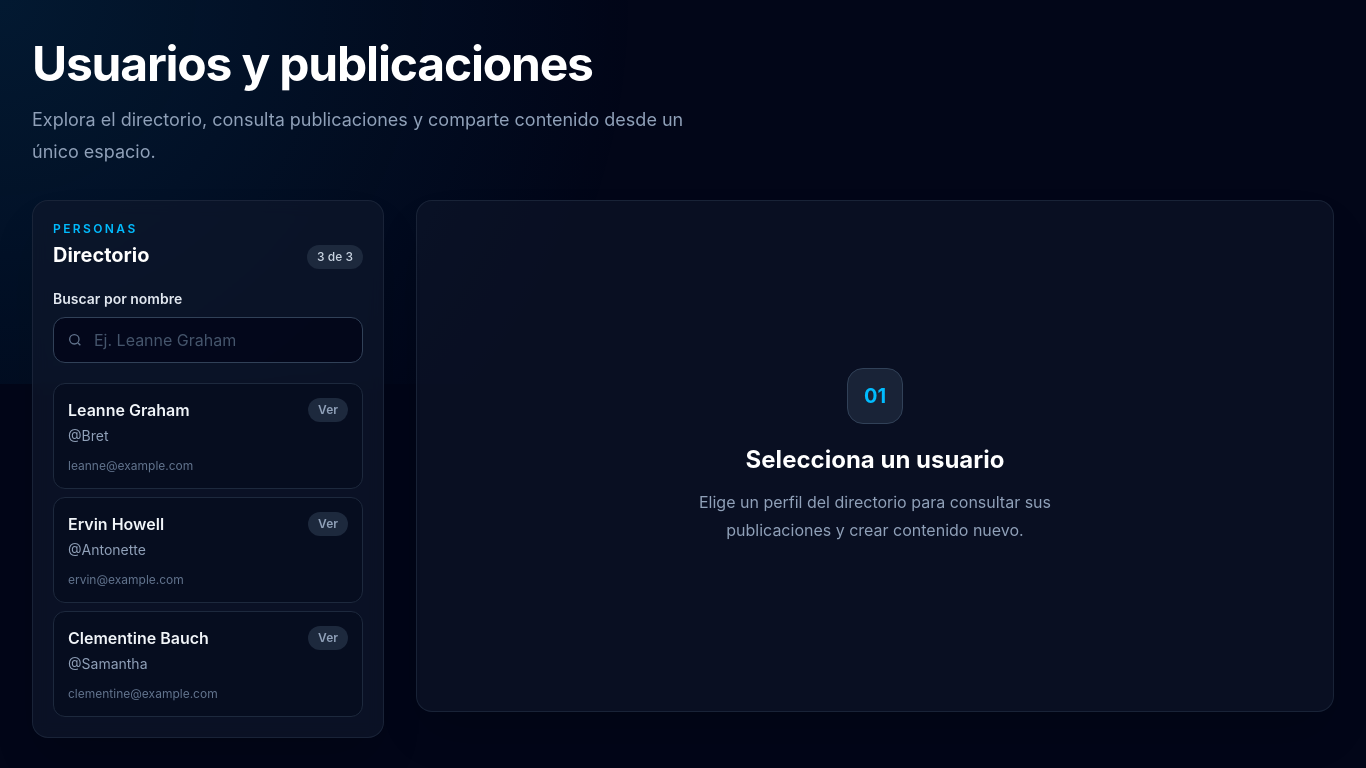
interacciones de usuarios y publicaciones › filtra sin distinguir mayúsculas y minúsculas
Check: the text "Leanne Graham" is shown, box [68,398,190,422]
Type "lEaNnE gRaHaM" into the search field labelled "Buscar por nombre".
click(208, 340); type("lEaNnE gRaHaM")  # box [53,317,363,363]
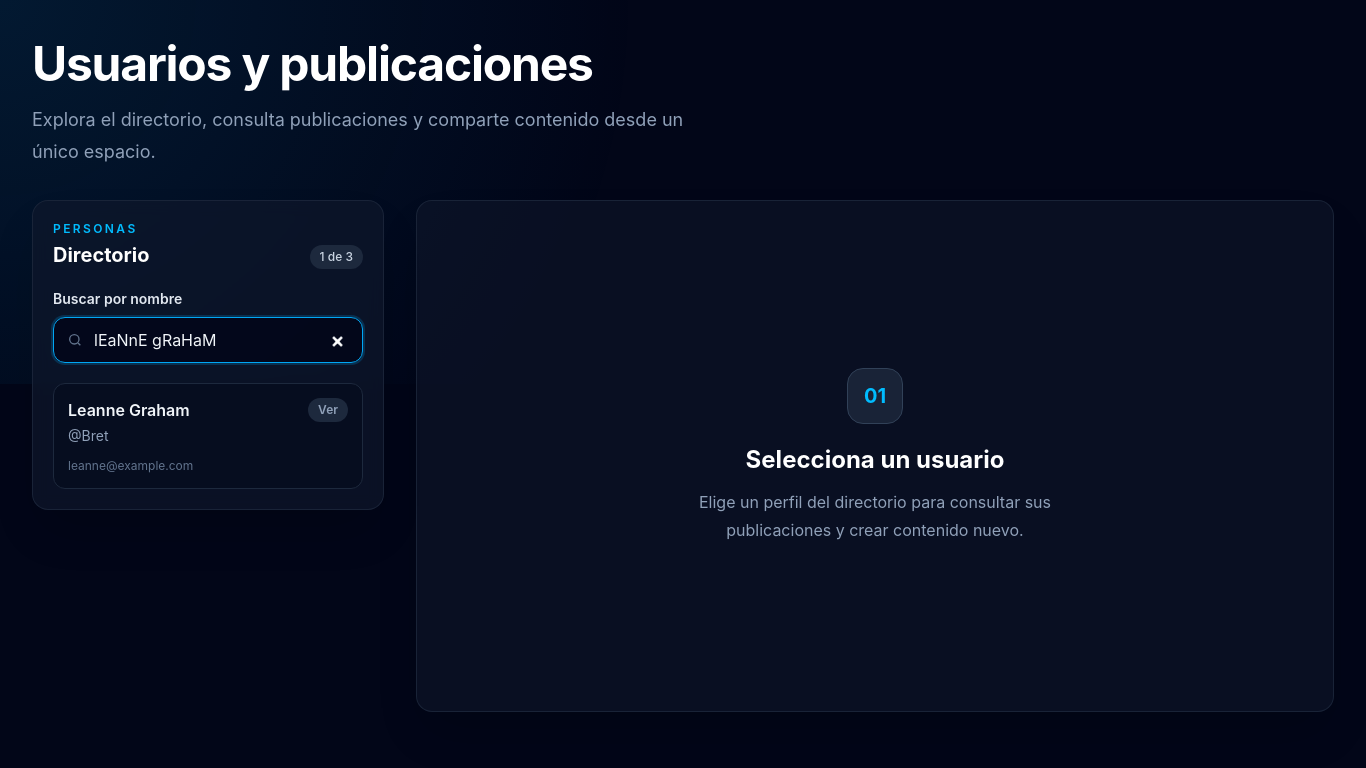
Check: the text "Leanne Graham" is shown, box [68,398,190,422]
Check: the button "Ervin Howell" is gone
